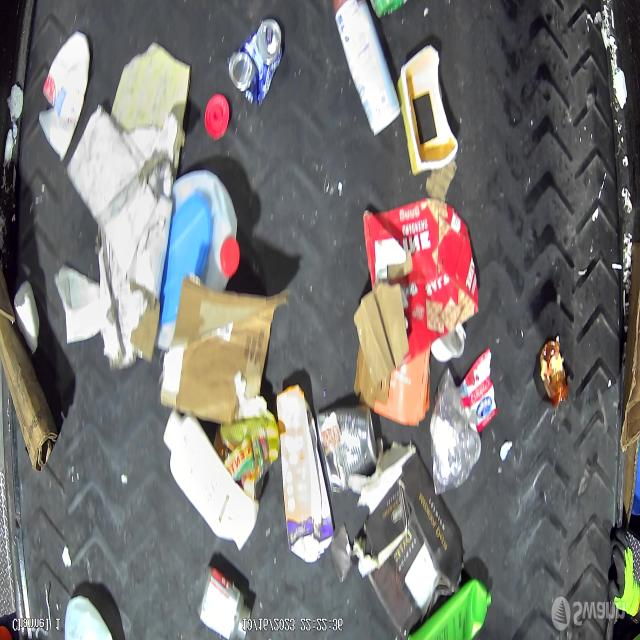can: (316, 405, 378, 495), (230, 17, 286, 108)
non_white_jug: (276, 384, 334, 564), (404, 577, 491, 638)
